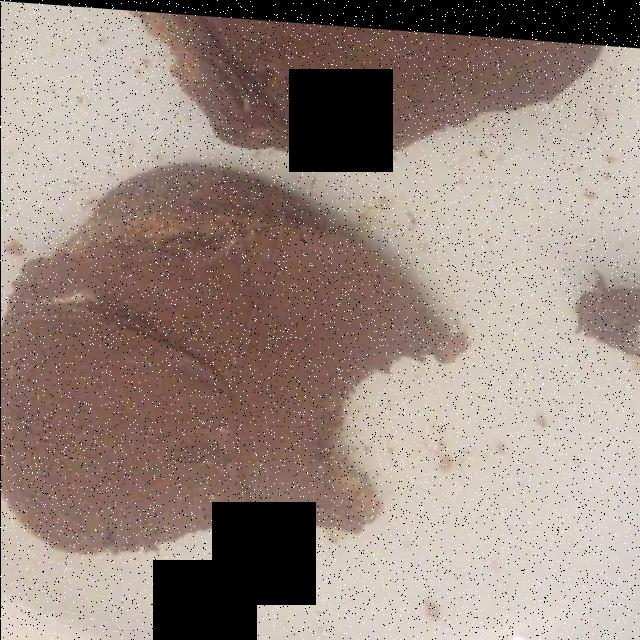hazelnut-chocolate-spread-nutella-ovomaltine-caotina: (29, 30, 597, 541)
